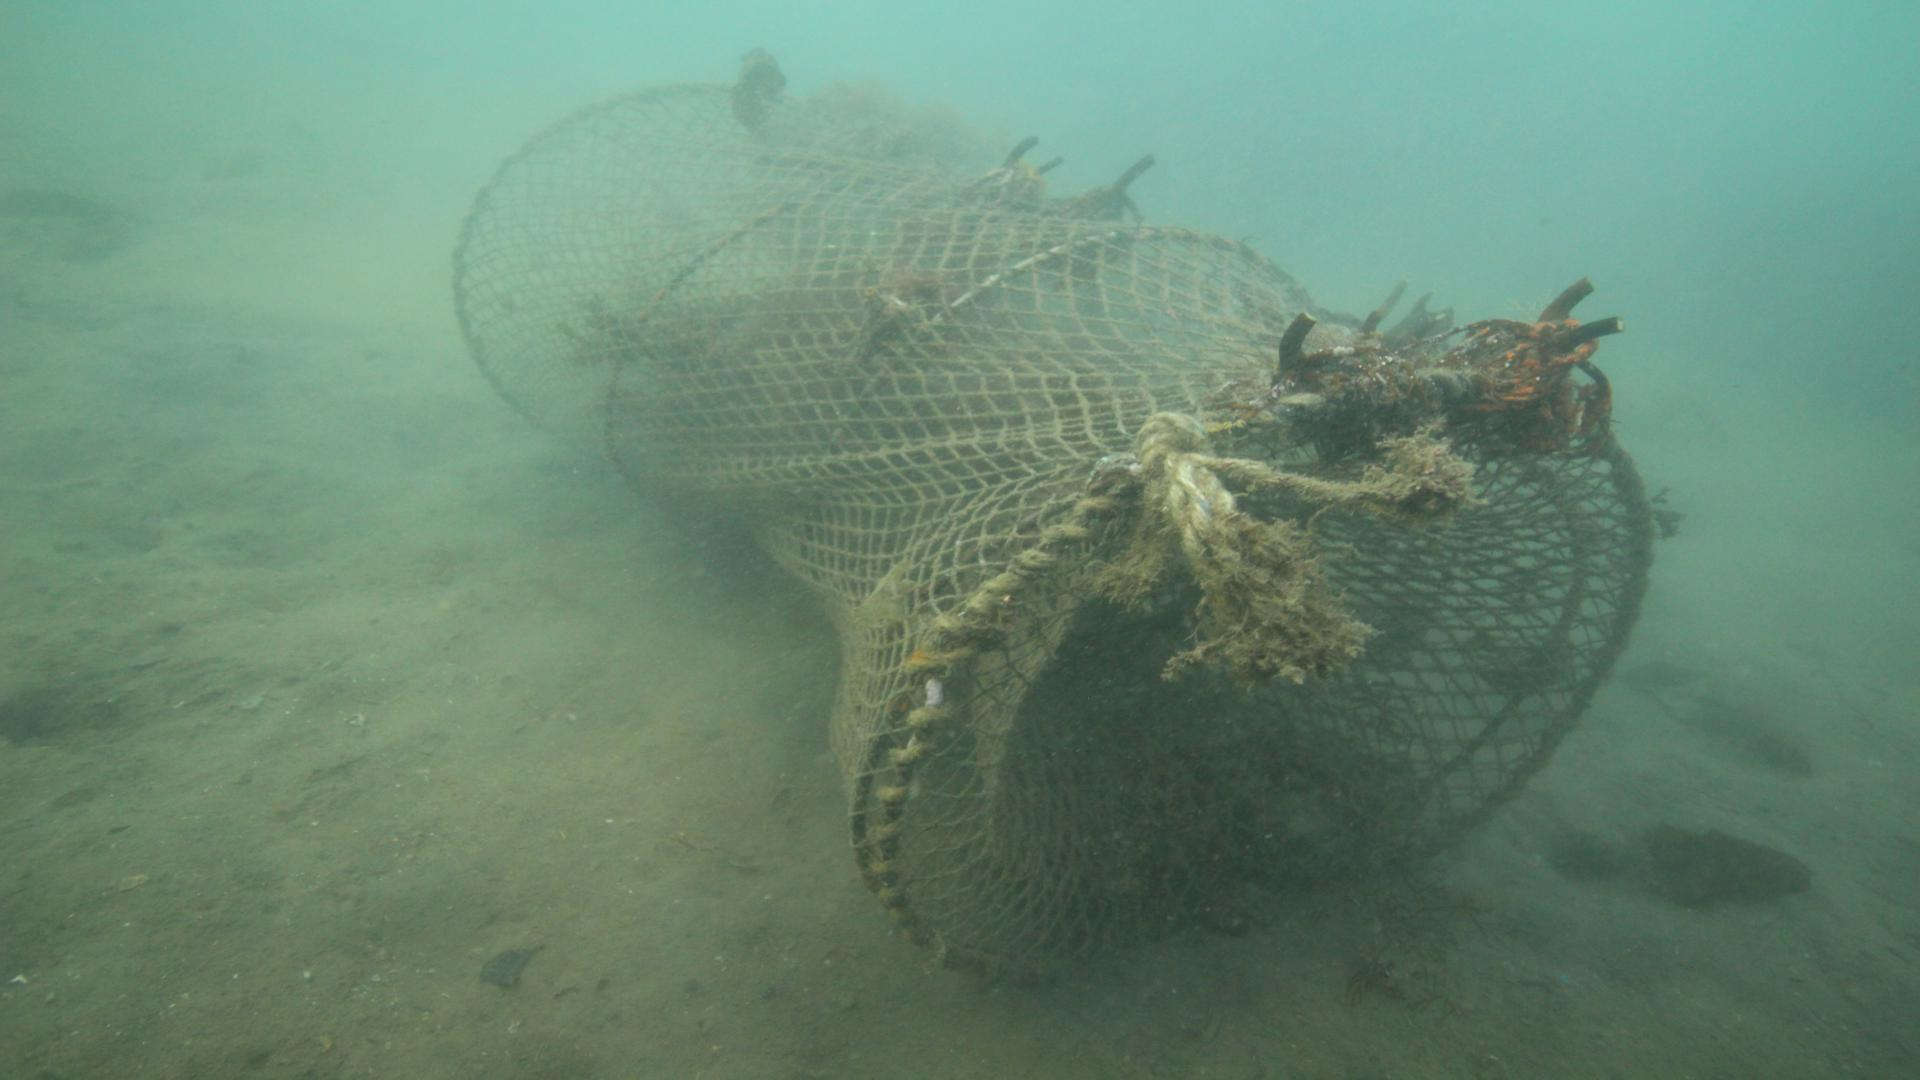spring fish trap: (450, 78, 1654, 985)
